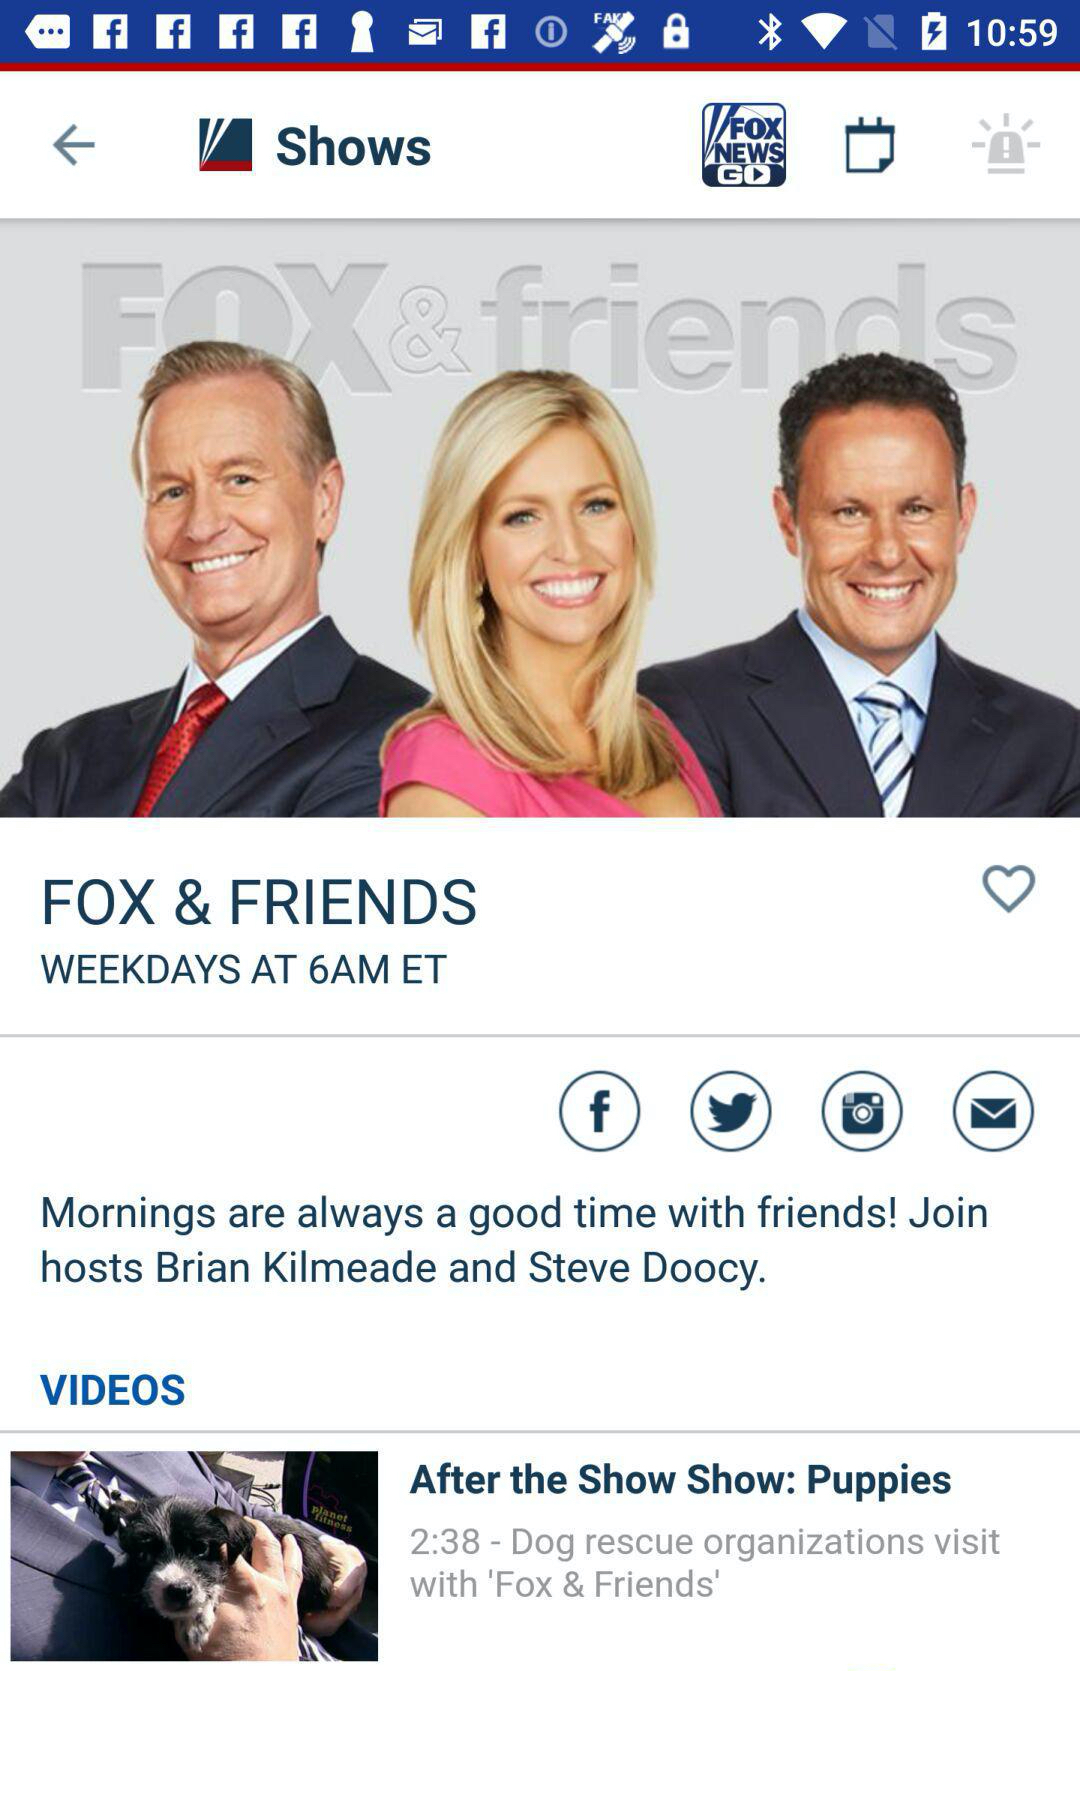Icon: (688, 1067, 774, 1156), (556, 1069, 643, 1155), (820, 1067, 904, 1156), (951, 1069, 1036, 1153), (844, 117, 897, 176), (981, 862, 1036, 915), (54, 124, 97, 168)
Image: (1, 219, 1080, 819), (12, 1451, 379, 1662), (701, 103, 787, 188), (971, 113, 1042, 176), (199, 118, 254, 173)
Text: (42, 1194, 989, 1293), (410, 1526, 1001, 1598), (409, 1461, 952, 1503), (45, 878, 477, 926), (42, 953, 448, 985), (278, 126, 432, 168), (40, 1372, 186, 1407)
UpperTaskBar: (1, 1, 1080, 64)
